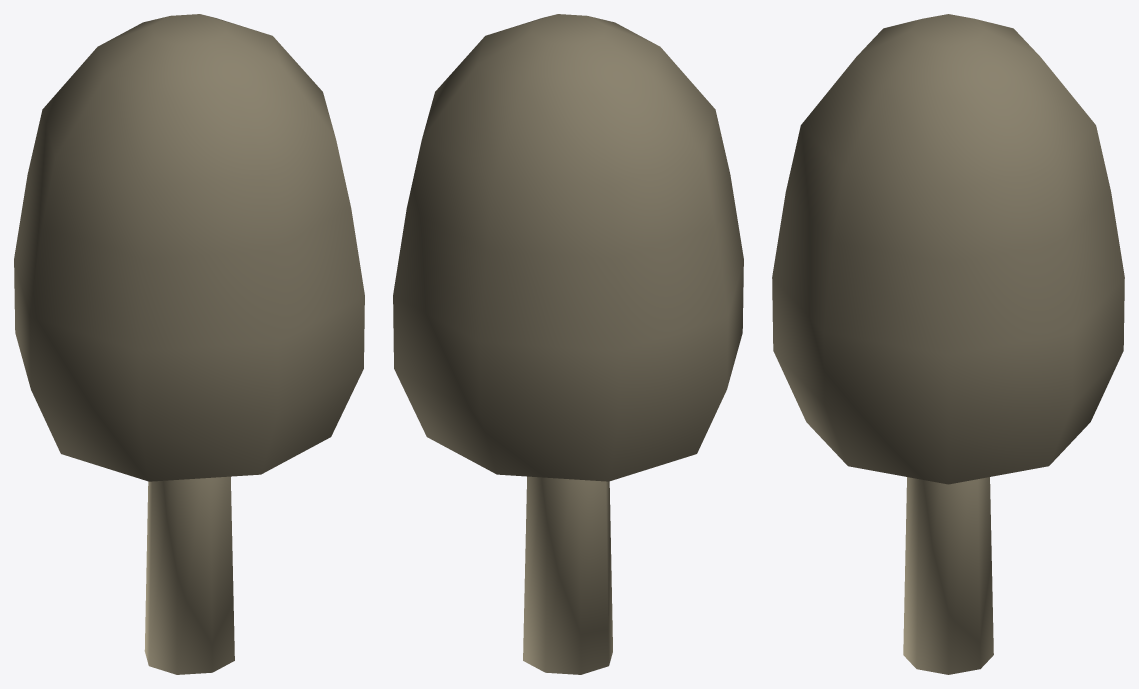
Rendered from Agaricus_Atramentarius_little.fbx.
3 views of the same model, side by side, from view 1: azimuth 30°, elevation 25°; view 2: azimuth 150°, elevation 25°; view 3: azimuth 270°, elevation 25° (orthographic).
Parts seen in each view (by area): view 1: Agaricus_Atramentarius_little; view 2: Agaricus_Atramentarius_little; view 3: Agaricus_Atramentarius_little.
Part boxes in pixels (<box>): Agaricus_Atramentarius_little: <box>14,14,364,674</box>; Agaricus_Atramentarius_little: <box>393,14,743,674</box>; Agaricus_Atramentarius_little: <box>772,14,1124,674</box>.
Bounding box in the file's own units: 10.99 × 20.6 × 10.55.
